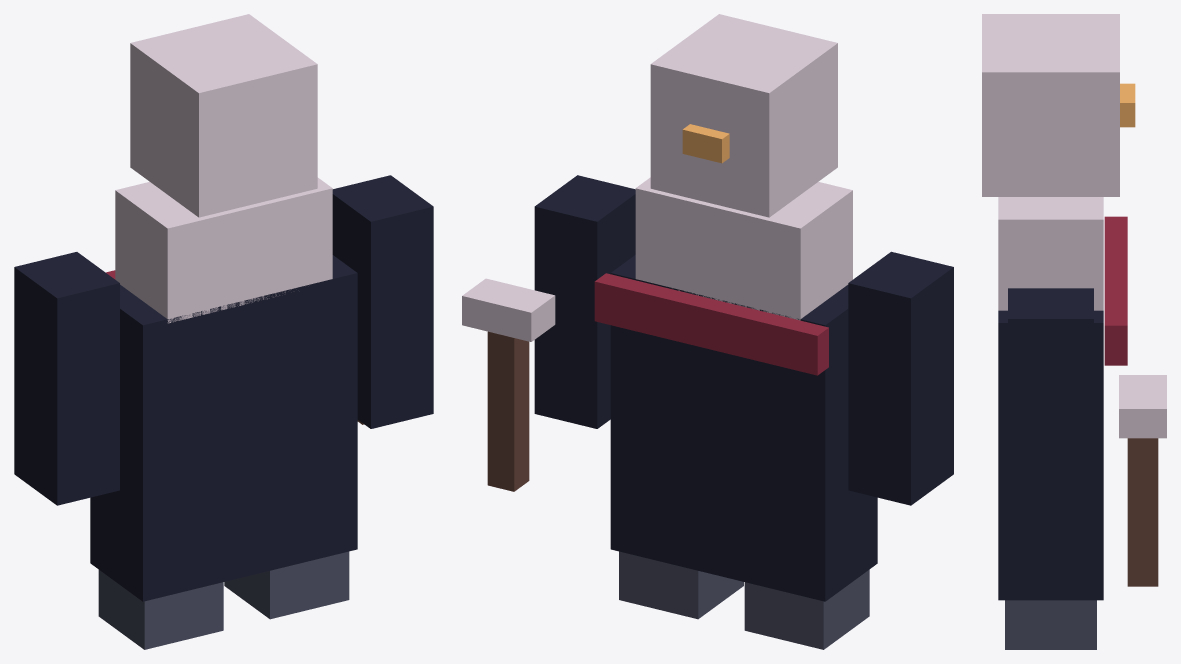
File: npc_KGB_NPC_DojoMentor_STATIC_DRAFT_v02.glb
3 renders of one model, left to right at view 1: azimuth 30°, elevation 25°; view 2: azimuth 150°, elevation 25°; view 3: azimuth 270°, elevation 25°, orthographic.
Parts seen in each view (by area): view 1: KGB_NPC_DojoMentor_STATIC_DRAFT_v02; view 2: KGB_NPC_DojoMentor_STATIC_DRAFT_v02; view 3: KGB_NPC_DojoMentor_STATIC_DRAFT_v02.
Boxes of the visible parts, box(x1,y1,x2,y2) form: KGB_NPC_DojoMentor_STATIC_DRAFT_v02: box(14, 14, 433, 649); KGB_NPC_DojoMentor_STATIC_DRAFT_v02: box(462, 14, 953, 649); KGB_NPC_DojoMentor_STATIC_DRAFT_v02: box(982, 14, 1166, 649).
Bounding box in the file's own units: 2.5 × 3.21 × 0.965.
